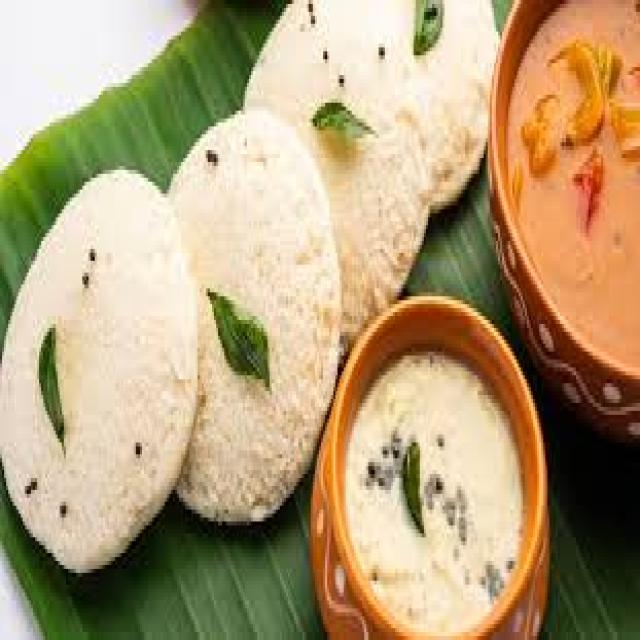IDLI: (240, 0, 498, 347), (0, 170, 198, 567), (165, 109, 340, 519)
